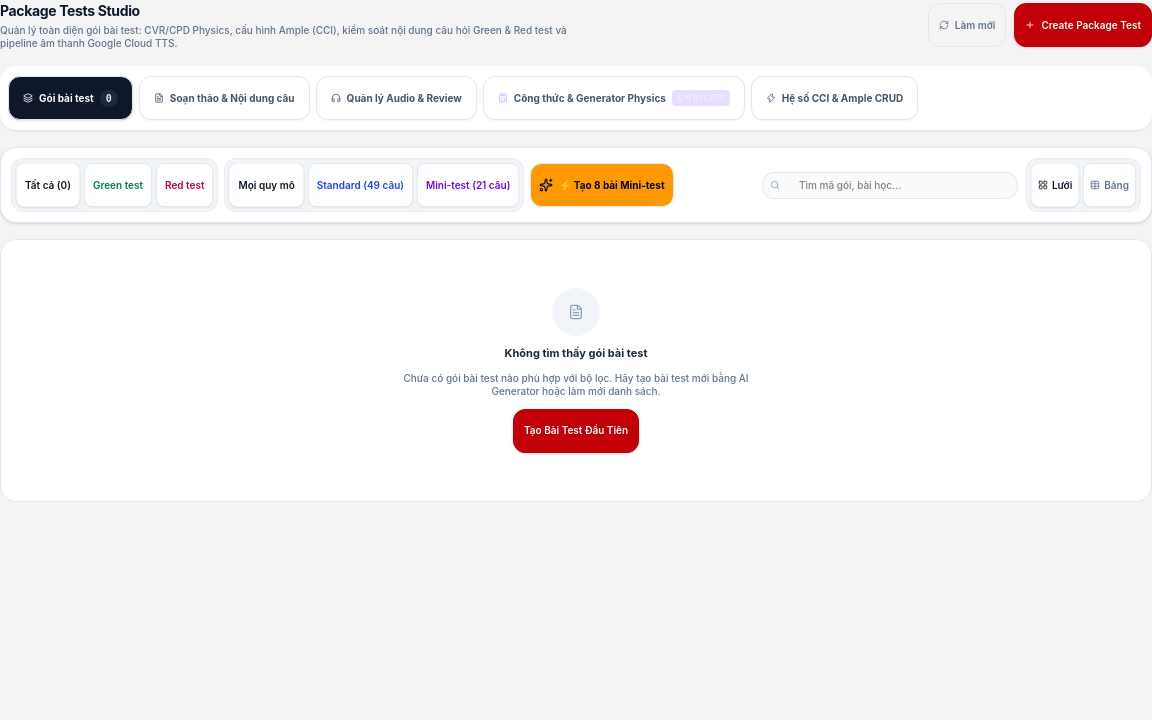
it: AdminPackageTestsPage › opens Create Package Test modal when clicking Create Package Test button
Click the button "Create Package Test" at (1083, 25), box top-left (1014, 3), bottom-right (1151, 47)
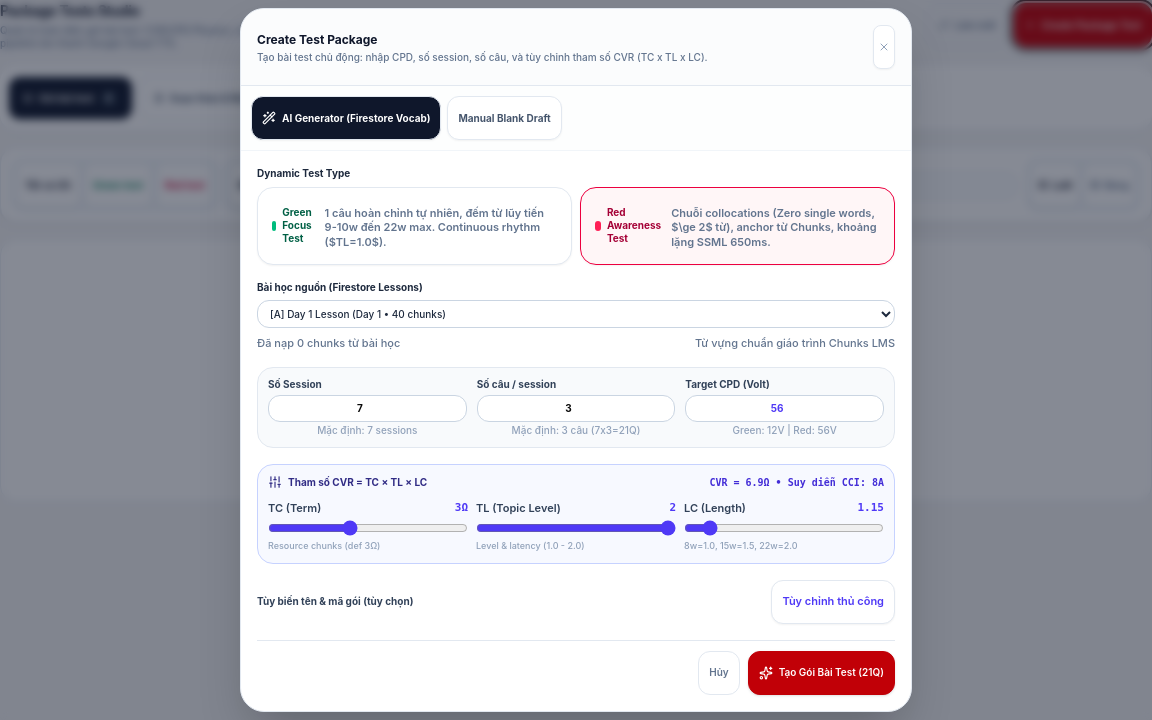
Expected: the heading "Create Test Package" is shown, top-left (257, 32), bottom-right (378, 46)
Expected: the button "AI Generator (Firestore Vocab)" is shown, top-left (251, 96), bottom-right (442, 140)
Expected: the button "Manual Blank Draft" is shown, top-left (448, 96), bottom-right (562, 140)
